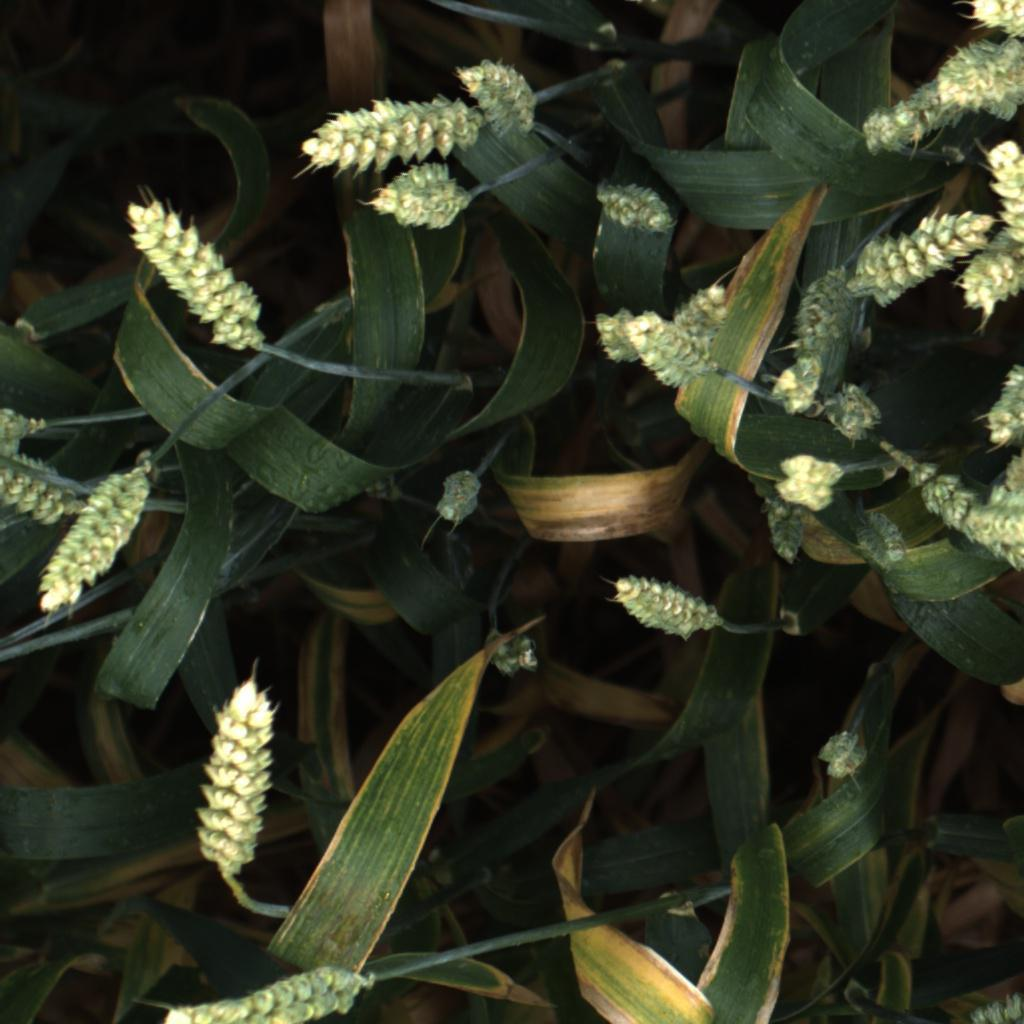0-0: (120, 193, 268, 353), (184, 664, 285, 873), (37, 462, 148, 622), (286, 86, 485, 171), (157, 952, 374, 1024), (908, 459, 1024, 593), (848, 209, 994, 315), (365, 159, 492, 236), (606, 572, 727, 651), (454, 53, 544, 139), (0, 438, 82, 531), (855, 75, 947, 157), (942, 30, 1024, 121), (626, 308, 717, 387), (760, 343, 835, 432), (593, 172, 678, 240), (792, 264, 850, 362), (960, 227, 1024, 311), (773, 445, 849, 512), (991, 135, 1024, 269), (822, 374, 886, 442), (987, 335, 1024, 448), (585, 299, 644, 367), (814, 724, 875, 788), (437, 458, 489, 531), (672, 276, 734, 337), (755, 497, 807, 568), (858, 509, 909, 569), (966, 0, 1024, 51), (482, 636, 549, 676), (0, 405, 31, 443)
